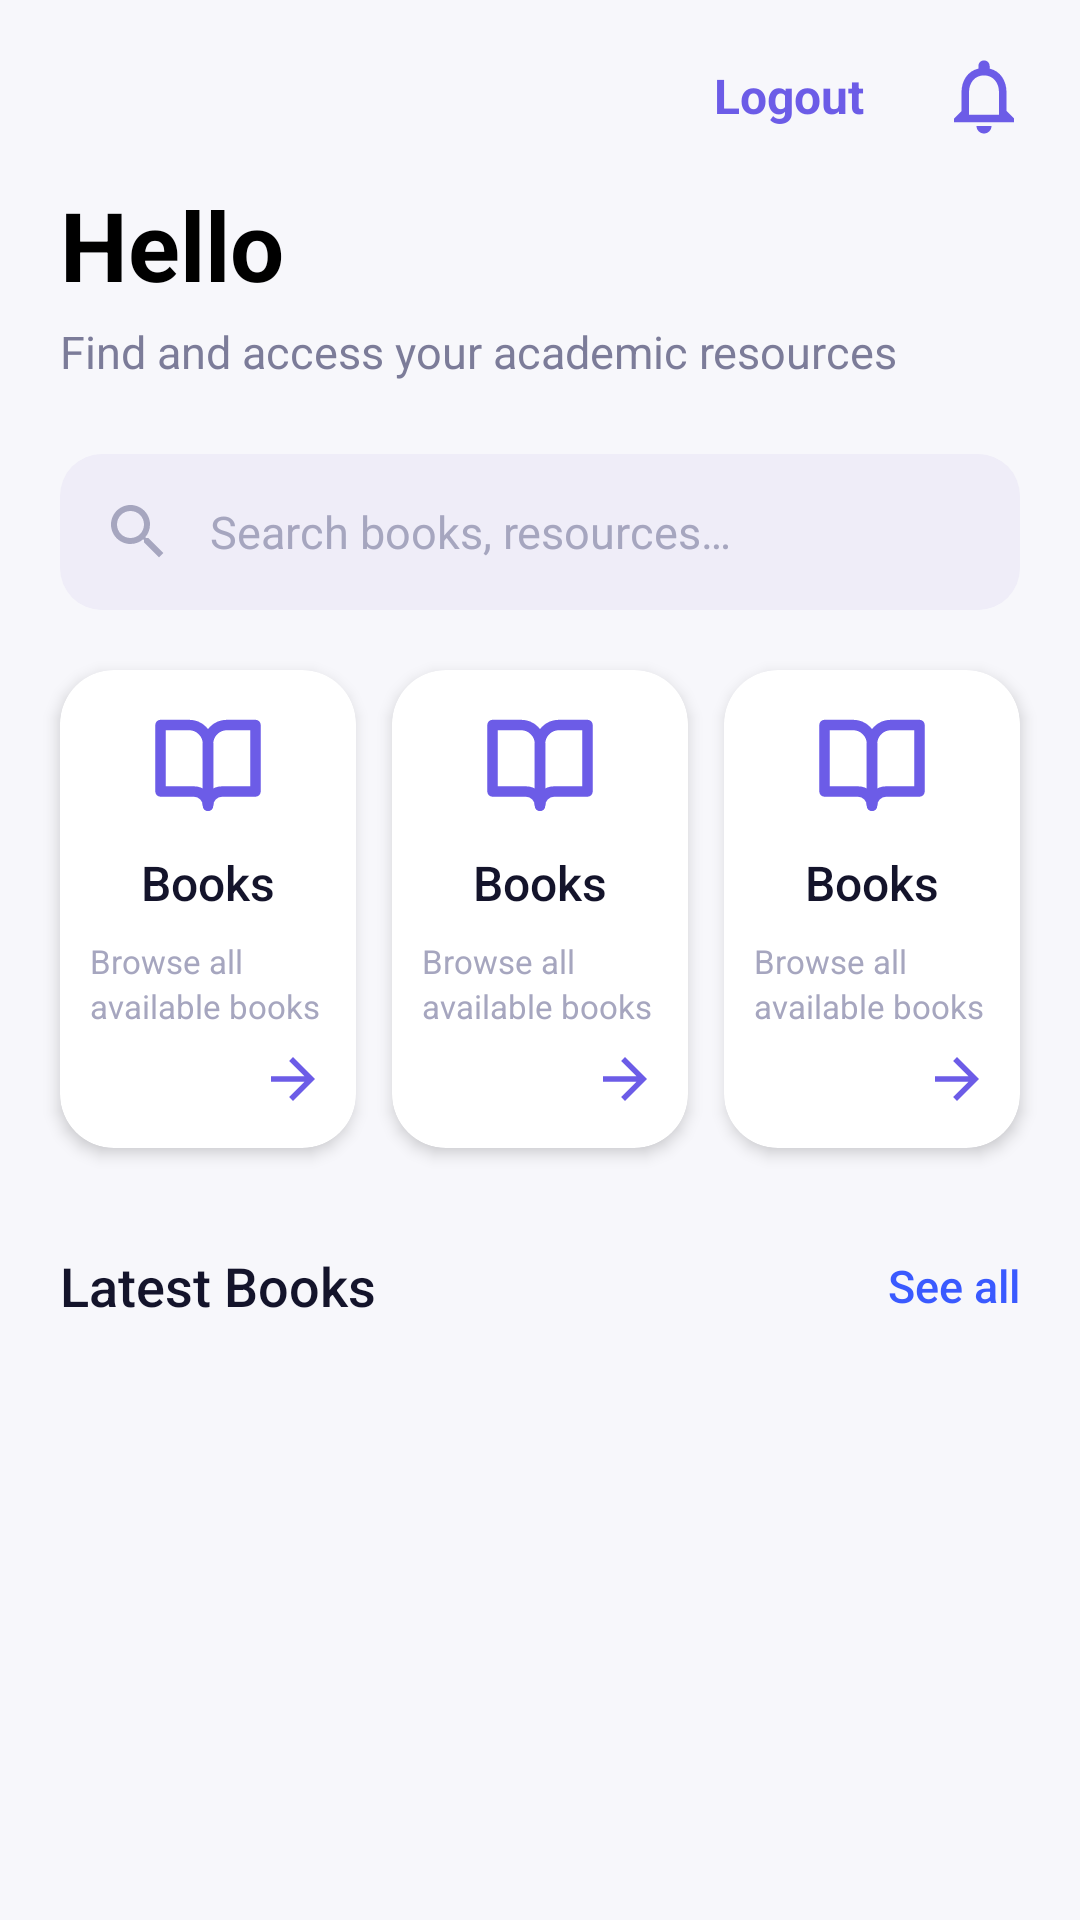

Icons on this 1080px x 1920px Android screen, each with the point to tap as (x,y):
arrow forward: (293,1079), (625,1079), (957,1079)
Notifications: (984,97)
